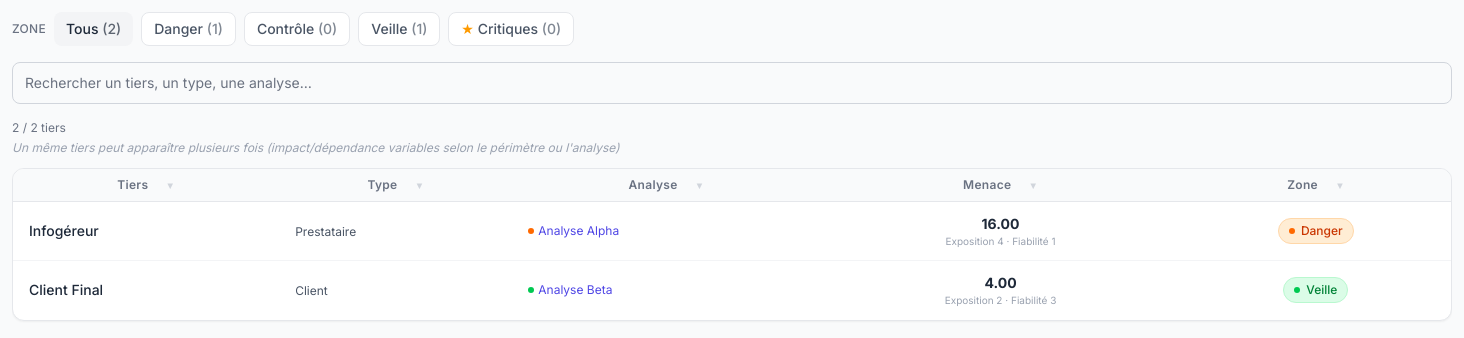
TiersClient › filtre par recherche (nom)
Type "client" into the field with placeholder "Rechercher un tiers, un type, une analyse…" at (732, 83), box left=12, top=62, right=1452, bottom=104
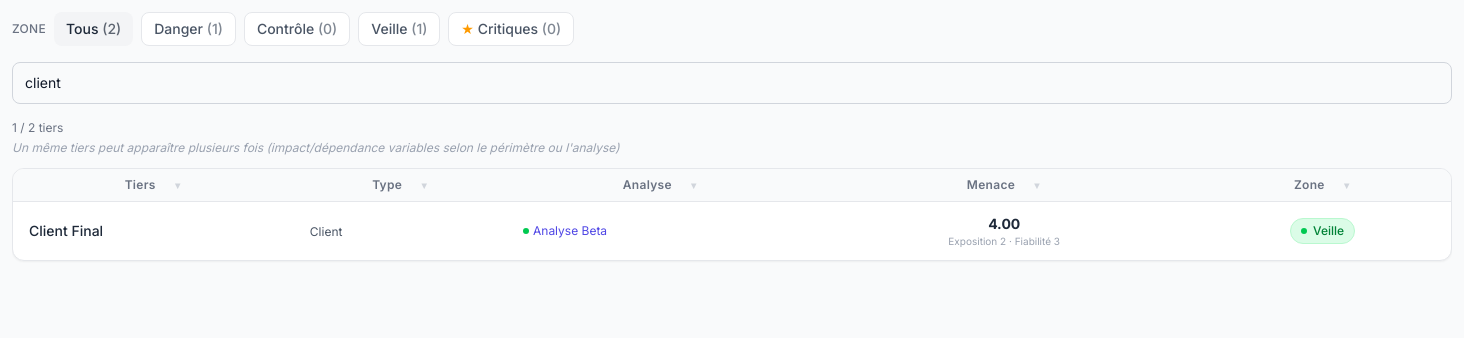
Check: the text "Client Final" is shown 2 times
Check: the text "Infogéreur" is not shown
